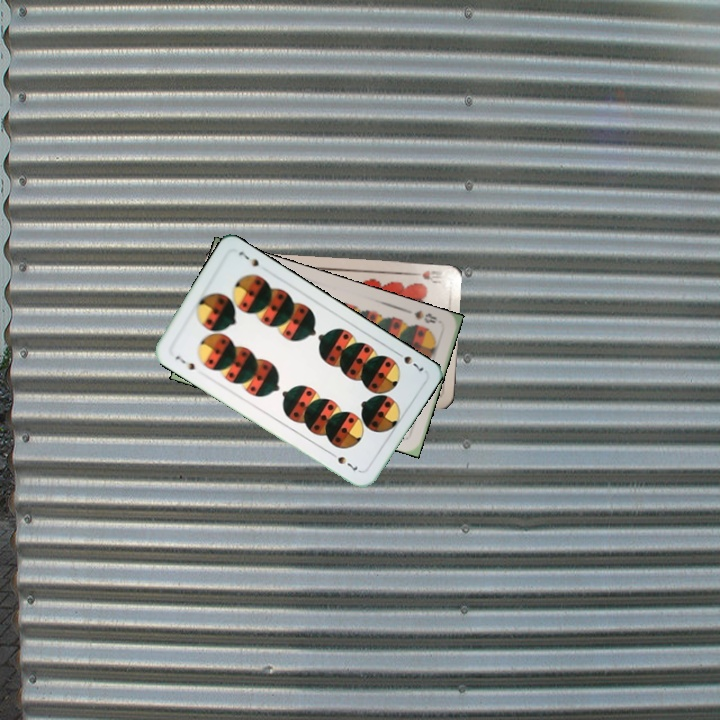H10: (406, 266, 447, 285)
S7: (391, 347, 426, 374), (171, 351, 198, 373)
S8: (410, 306, 439, 326)
